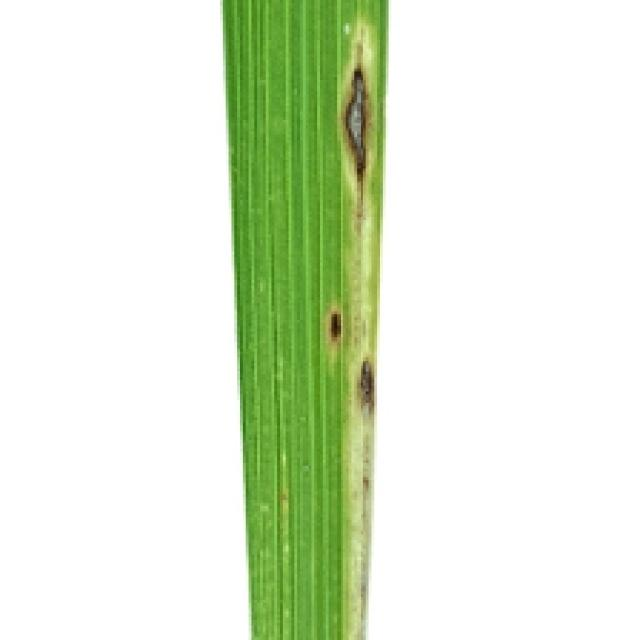Rice___Rice_Blast: (221, 0, 390, 637)
